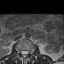CCS_normal: (23, 48, 25, 60)
LFS_normal: (28, 47, 30, 55)
LLS_normal: (25, 47, 28, 56)
RFS_normal: (18, 46, 21, 55)
RLS_normal: (21, 47, 23, 57)
